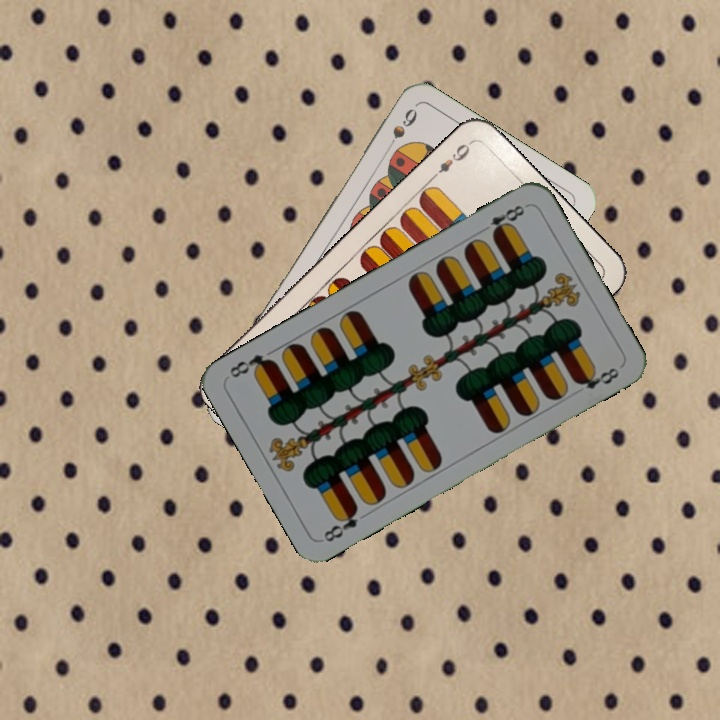E8: (475, 201, 530, 240), (319, 502, 361, 545)
E9: (427, 138, 475, 182)
S9: (381, 104, 420, 157)
